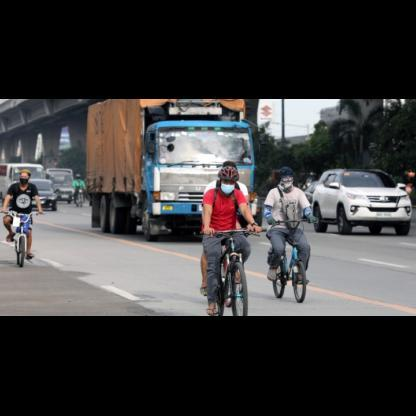Bicycle: (176, 224, 262, 311), (268, 214, 321, 308), (0, 202, 48, 272)
